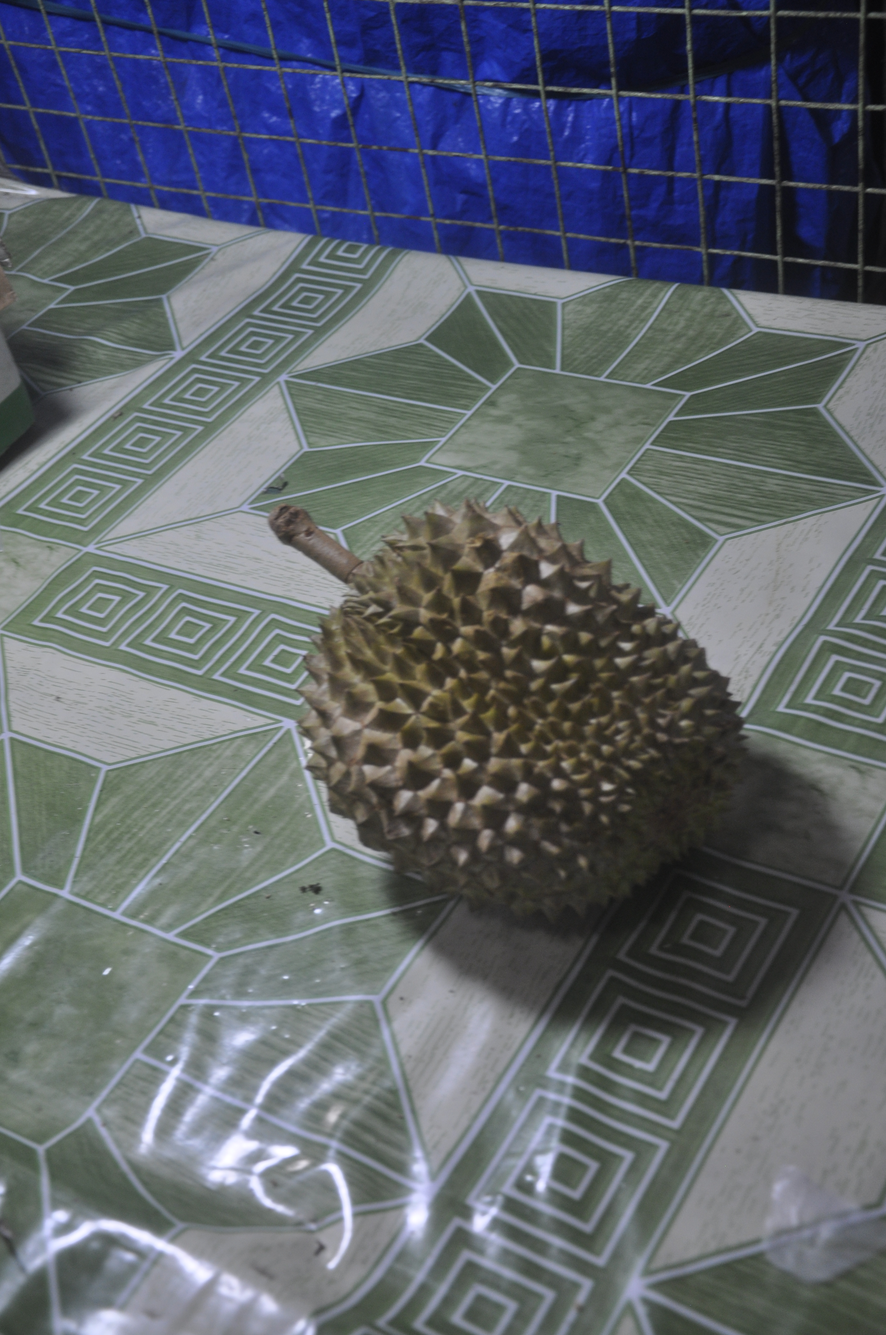mature: (271, 501, 740, 920)
